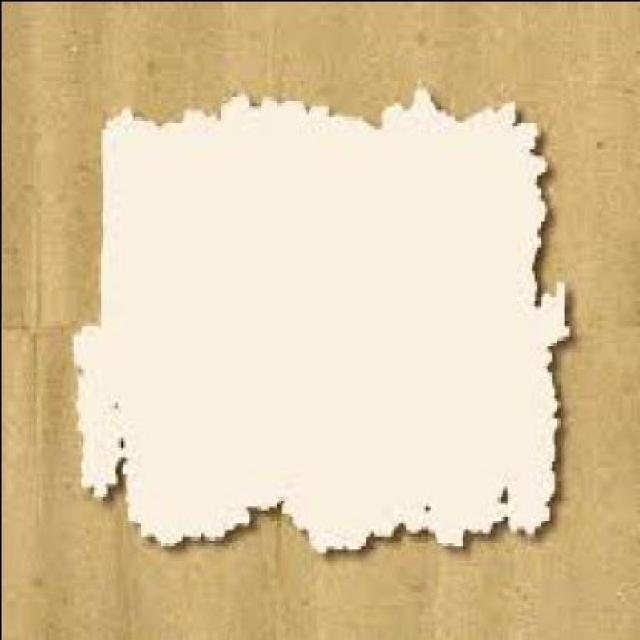CARDBOARD: (1, 1, 638, 638), (70, 92, 565, 558)
